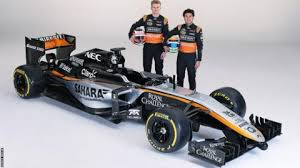FormulaOneCar: (8, 27, 285, 168)
